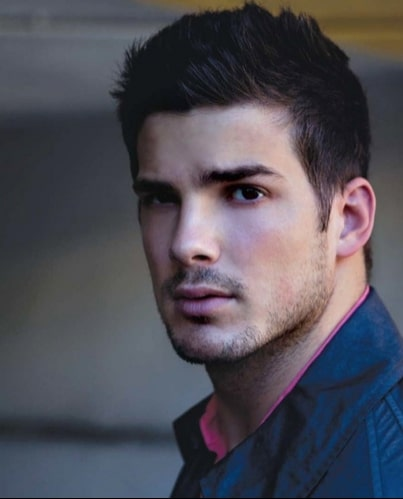without_mask: (136, 108, 321, 333)
